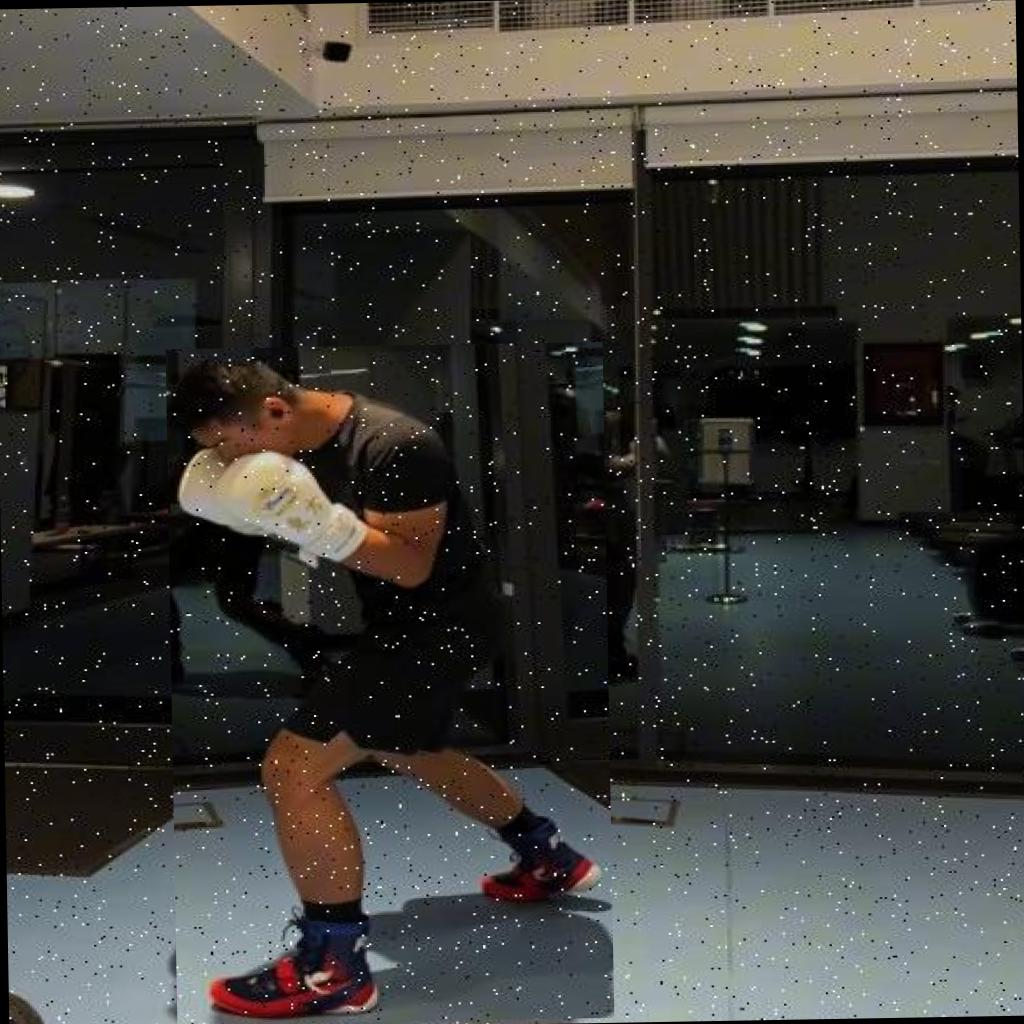no punch: (165, 341, 614, 1024)
